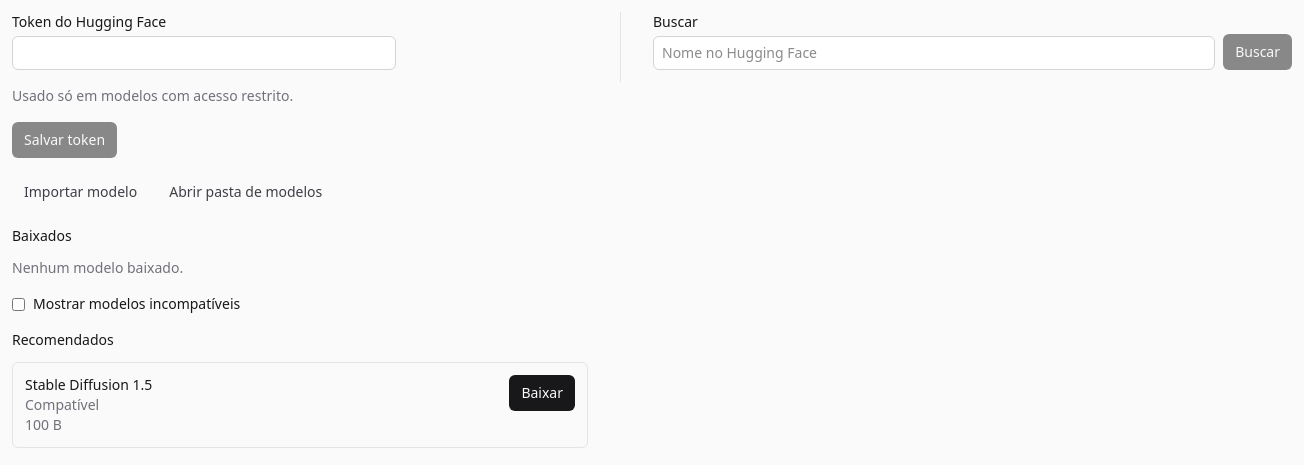
Test: gerenciador de modelos › não baixa um repositório restrito sem token
Type "fechado" into the field labelled "Buscar" at (934, 53), box [653,36,1215,70]
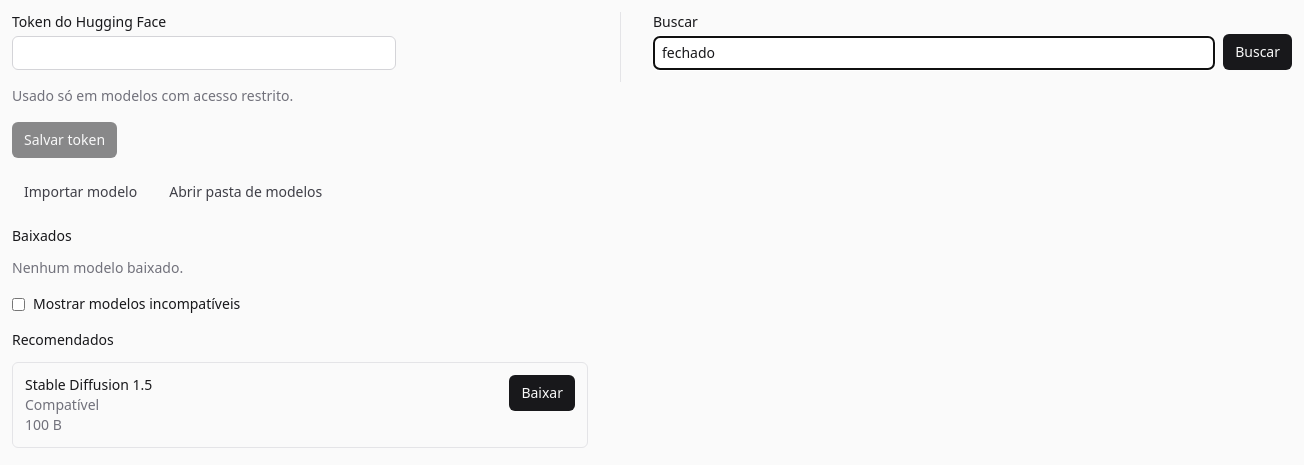
Click the button "Buscar" at (1258, 52), box [1223,34,1292,70]
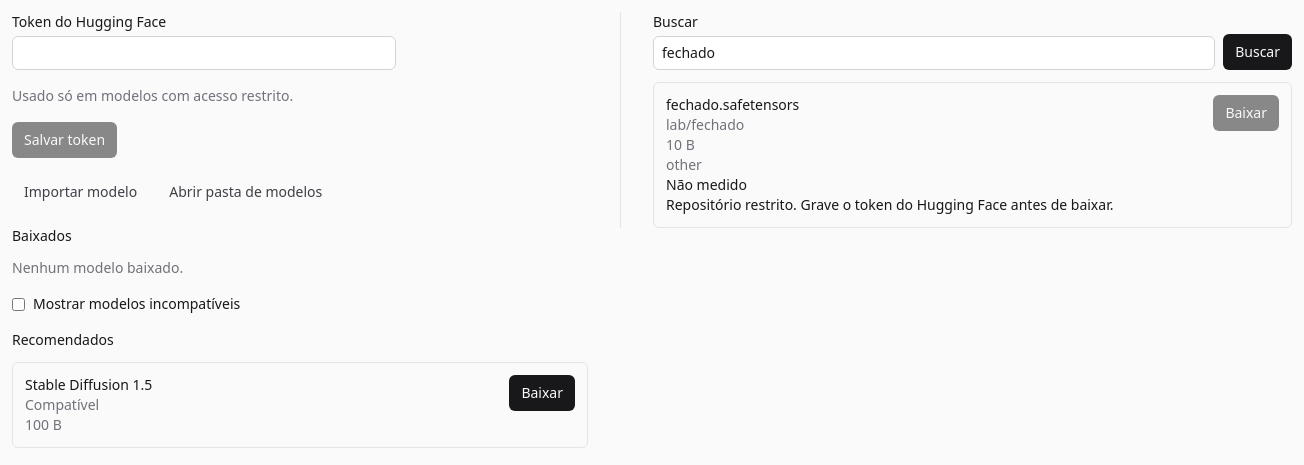
Expected: the text "Repositório restrito" is shown, [666,195,1113,214]
Expected: the button with aria-label "Baixar fechado.safetensors" is disabled, [1213,95,1279,131]
